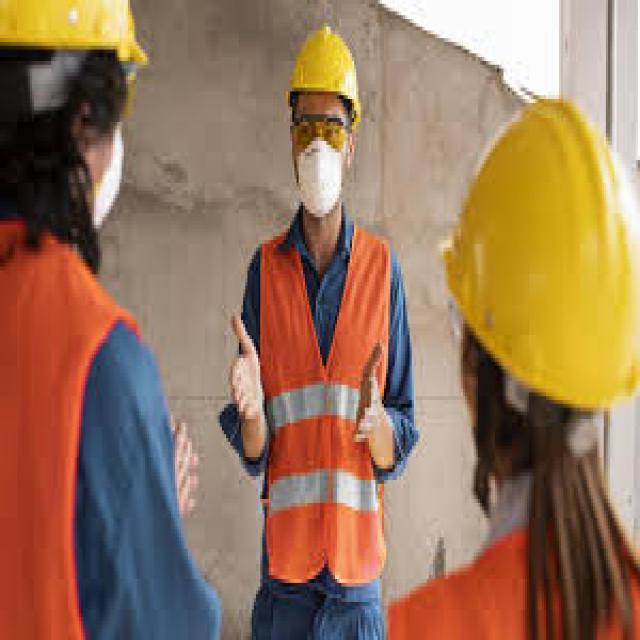yellow helmet: (446, 101, 640, 441), (1, 1, 173, 76), (286, 11, 378, 119)
